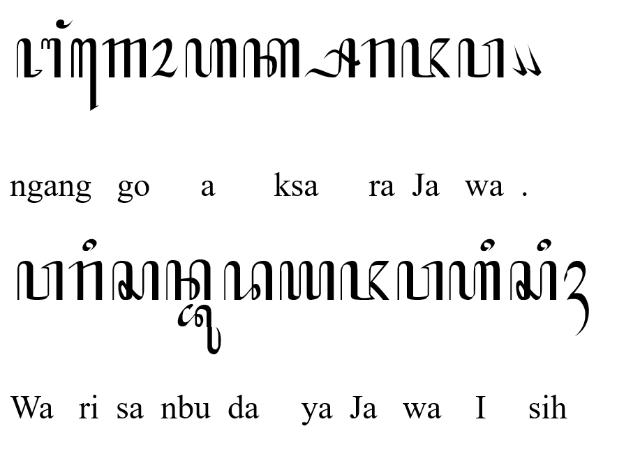_bu: (177, 303, 221, 354)
_h1: (564, 260, 590, 336)
_s: (305, 38, 361, 78)
d: (223, 260, 273, 300)
e1: (71, 37, 99, 110)
g: (102, 38, 146, 78)
h: (185, 38, 238, 78), (448, 260, 500, 300)
i: (82, 238, 98, 252), (480, 239, 496, 253), (536, 238, 552, 251)
j: (340, 259, 390, 301), (401, 38, 451, 78)
k: (242, 38, 300, 78)
kom: (524, 44, 542, 76), (511, 44, 527, 76)
n: (165, 258, 213, 302)
ng: (55, 20, 73, 28)
nga: (16, 38, 62, 78)
o: (150, 38, 178, 78)
r: (361, 38, 397, 78), (68, 260, 104, 300)
s: (111, 261, 159, 302), (509, 261, 557, 301)
w: (396, 260, 444, 302), (458, 38, 506, 78), (16, 261, 64, 301)
y: (279, 261, 335, 301)
